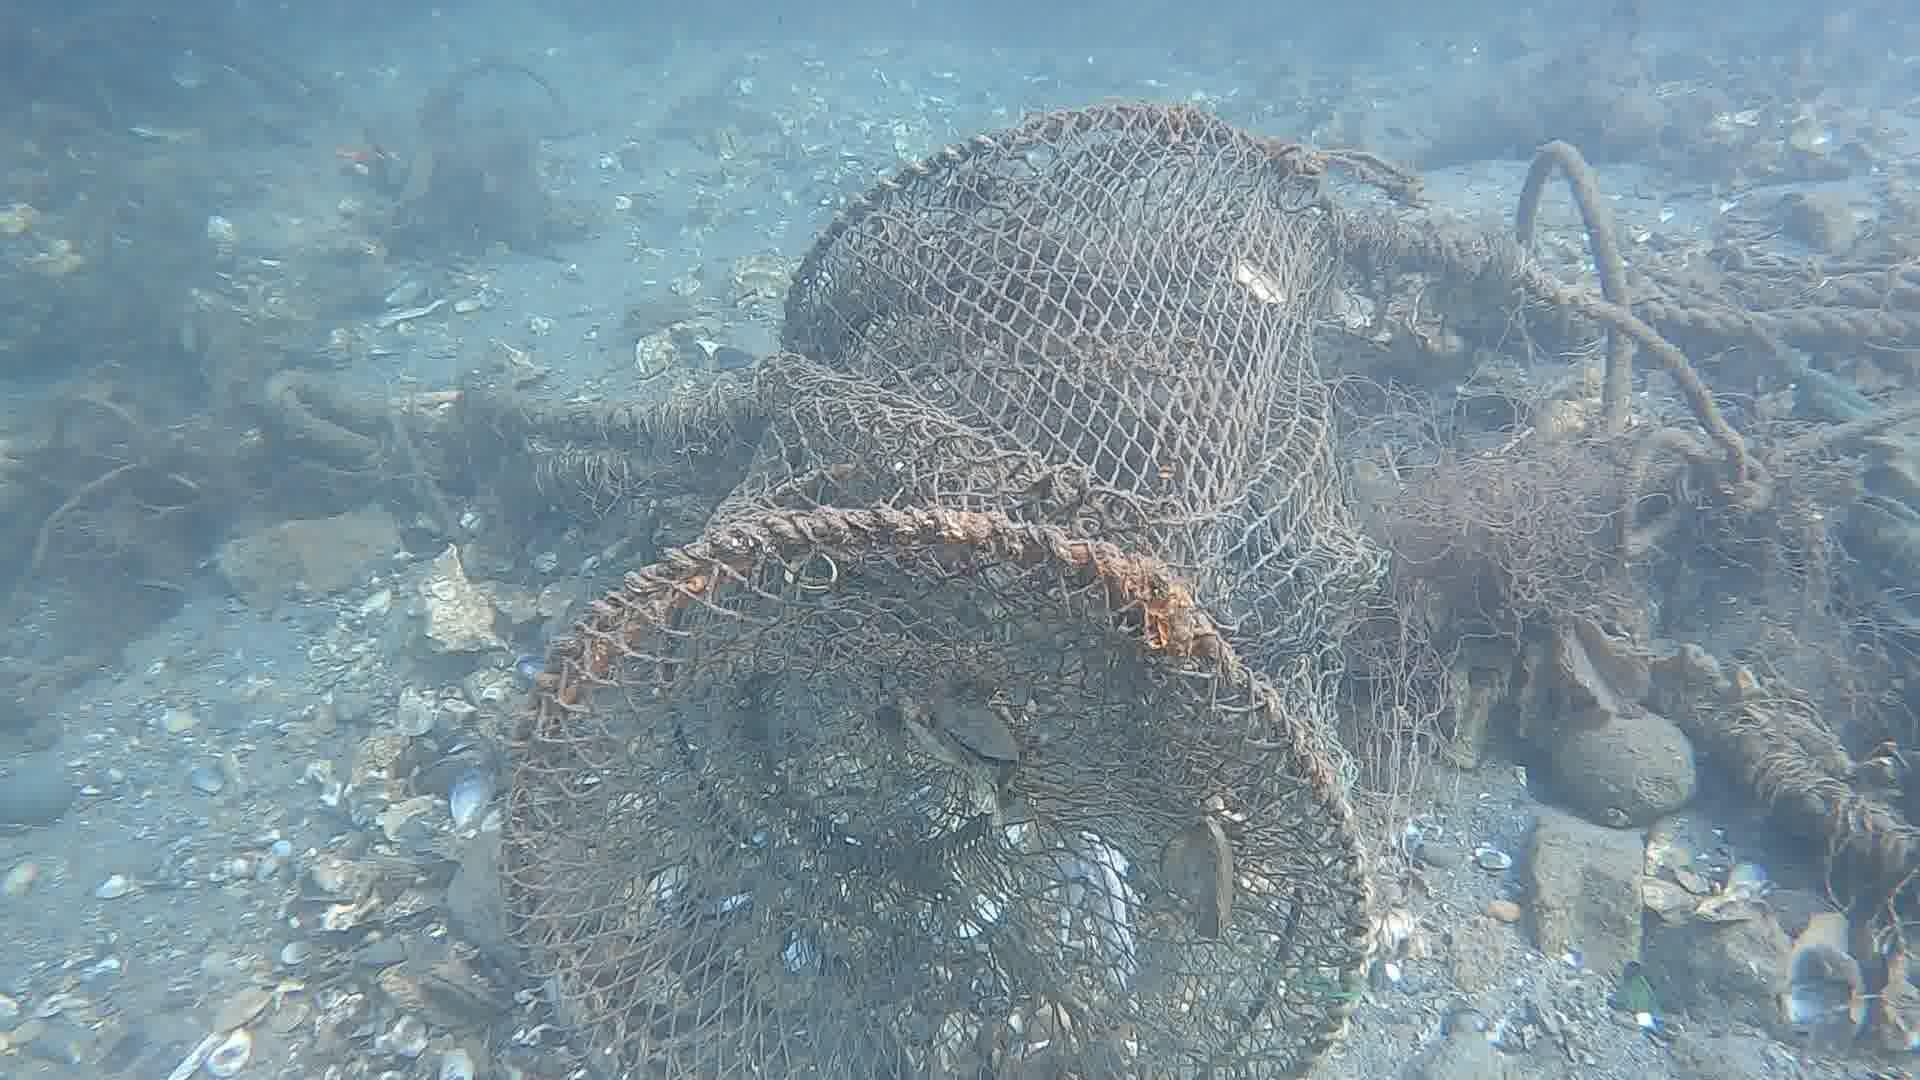bundle of rope: (1507, 138, 1775, 551)
rope: (1648, 302, 1920, 339)
spring fish trap: (491, 102, 1367, 1080)
